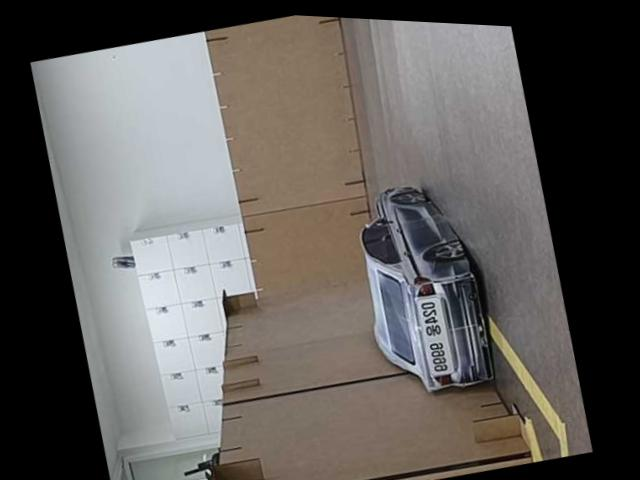car: (340, 167, 504, 404)
id: (408, 292, 455, 376)
